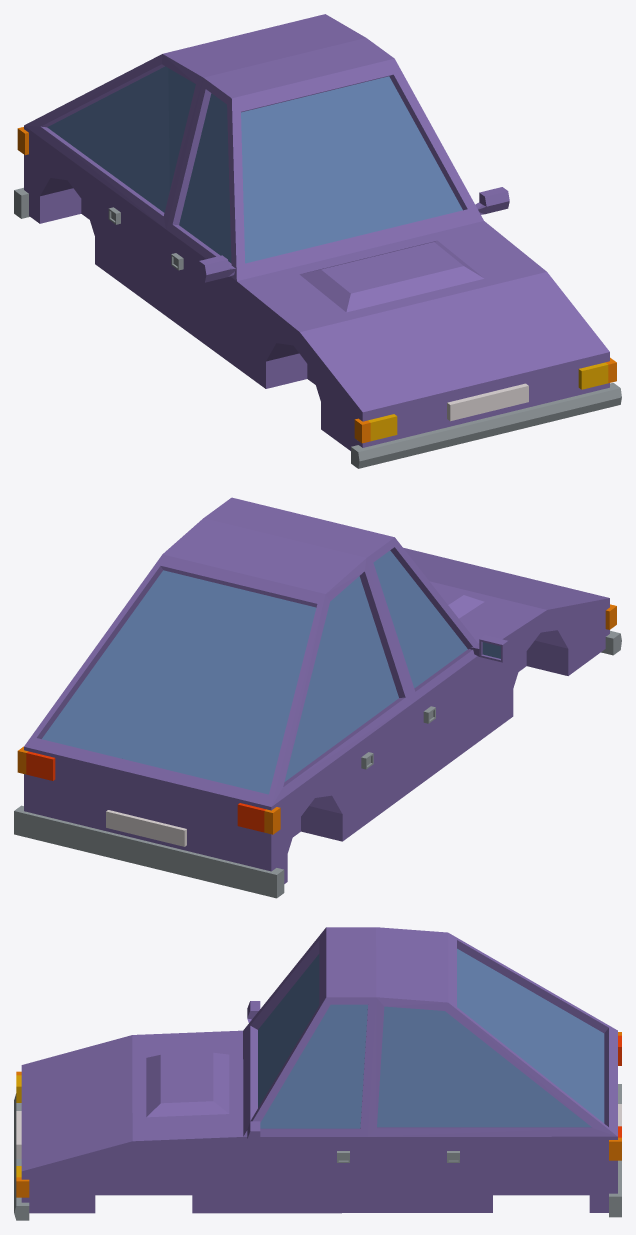
Rendered from Car_05.fbx.
3 views of the same model, one above another, from view 1: azimuth 30°, elevation 25°; view 2: azimuth 150°, elevation 25°; view 3: azimuth 270°, elevation 25° (orthographic). The views are drawn at different scales.
Parts seen in each view (by area): view 1: Car_05; view 2: Car_05; view 3: Car_05.
Boxes of the visible parts, x1,y1,x2,y2 form: Car_05: [14, 14, 621, 468]; Car_05: [14, 497, 621, 898]; Car_05: [14, 927, 621, 1220].
Size of the model in its own units: 4.02 by 2.91 by 7.93.
